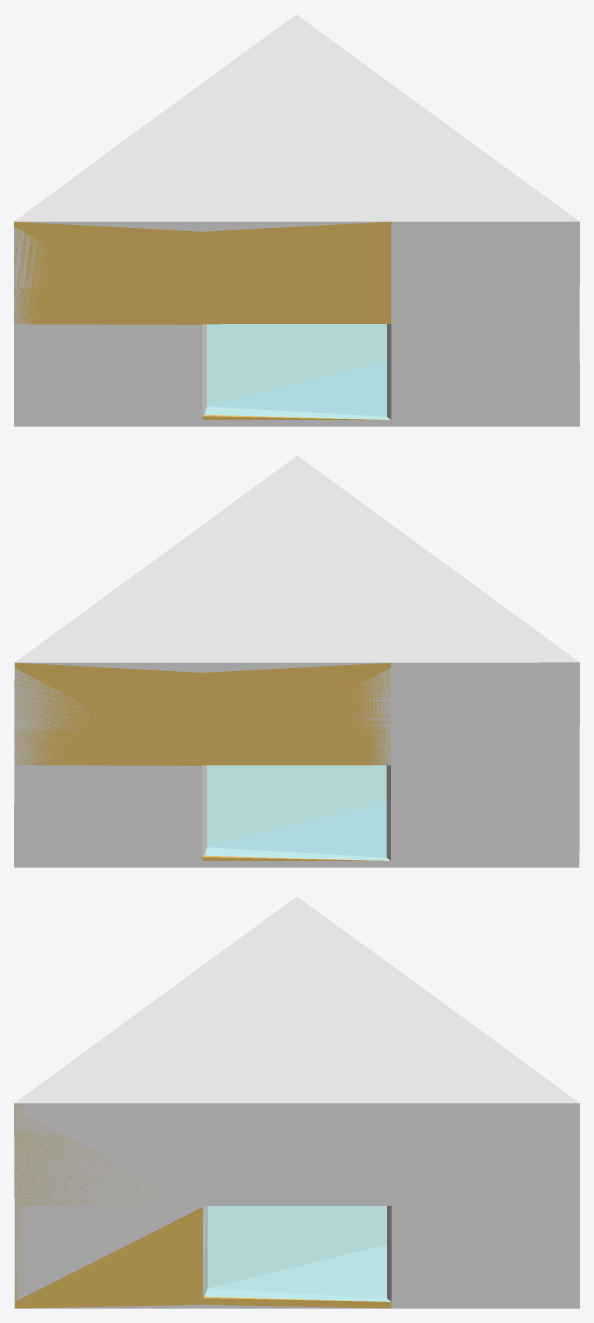
The model's file is trikotne_sobe.fbx.
3 views of the same model, one above another, from view 1: azimuth 30°, elevation 25°; view 2: azimuth 150°, elevation 25°; view 3: azimuth 270°, elevation 25° (orthographic).
Parts seen in each view (by area): view 1: tri-1, tri-5, tri-2; view 2: tri-1, tri-5, tri-2; view 3: tri-1, tri-2, tri-5.
Boxes of the visible parts, box(x1,y1,x2,y2) form: tri-1: box(14, 14, 579, 426); tri-5: box(14, 221, 391, 419); tri-2: box(204, 324, 390, 419); tri-1: box(14, 455, 579, 867); tri-5: box(14, 662, 390, 860); tri-2: box(204, 765, 390, 860); tri-1: box(14, 896, 579, 1308); tri-2: box(205, 1206, 390, 1301); tri-5: box(14, 1103, 391, 1308).
Bounding box in the file's own units: 500 × 433 × 200.
